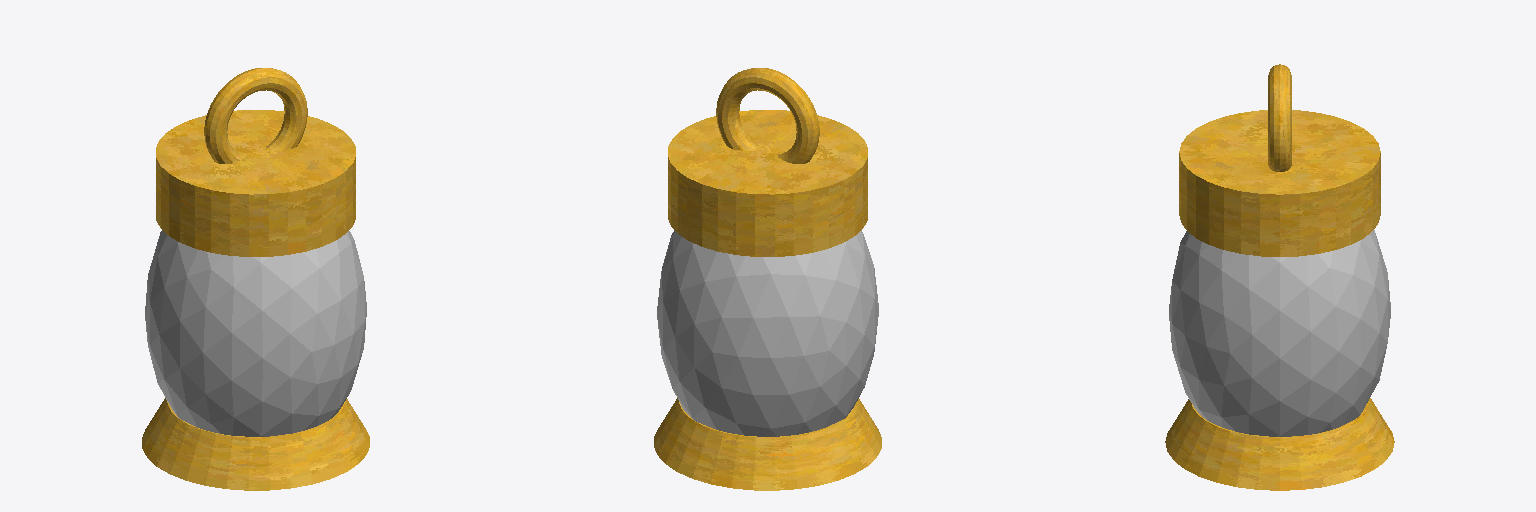
The picture shows the model from 3 angles: view 1: azimuth 30°, elevation 25°; view 2: azimuth 150°, elevation 25°; view 3: azimuth 270°, elevation 25°; orthographic projection.
Parts seen in each view (by area): view 1: Cylinder; view 2: Cylinder; view 3: Cylinder.
Part boxes in pixels (x1,y1,x2,y2): Cylinder: (142,68,369,490); Cylinder: (654,68,881,490); Cylinder: (1165,64,1394,490).
Bounding box in the file's own units: 0.2882 × 0.5167 × 0.2882.
Materials: 2 (1 with a texture image).